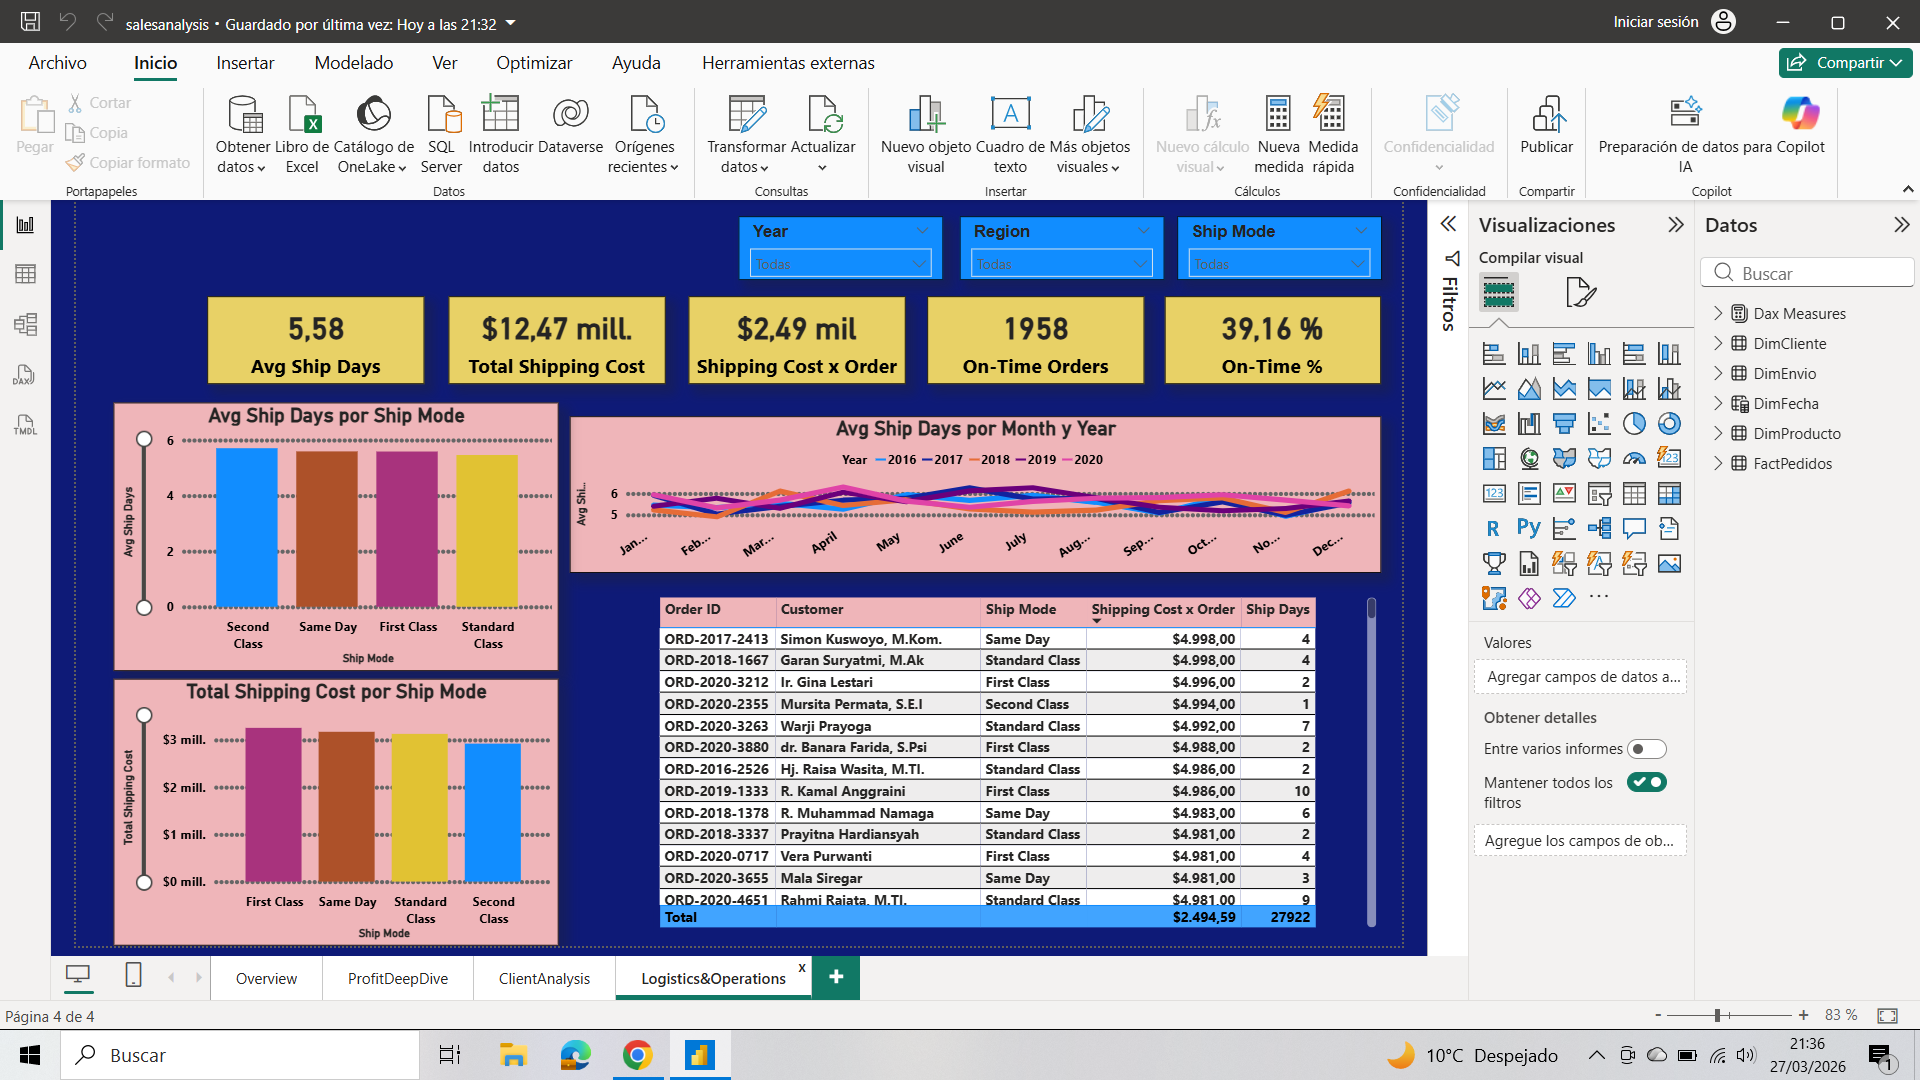

This screenshot's page, from the dashboard's own definition file:
{"tool":"powerbi","page":{"name":"Logistics&Operations","canvas":[1280,720],"ordinal":3},"visuals":[{"type":"slicer","fields":{"Values":["DimFecha.Year"]},"box":[639.5,15.1,197.6,61.7],"z":0},{"type":"slicer","fields":{"Values":["DimCliente.Region"]},"box":[853.5,15.1,197.6,61.7],"z":1000},{"type":"slicer","fields":{"Values":["DimEnvio.Ship Mode"]},"box":[1063.5,15.1,197.6,61.7],"z":2000},{"type":"card","fields":{"Values":["Dax Measures.Avg Ship Days"]},"box":[126.2,93.3,209.9,85.1],"z":3000},{"type":"card","fields":{"Values":["Dax Measures.Total Shipping Cost"]},"box":[359.5,93.3,209.9,85.1],"z":4000},{"type":"card","fields":{"Values":["Dax Measures.Shipping Cost per Order"]},"box":[591.4,93.3,209.9,85.1],"z":5000},{"type":"card","fields":{"Values":["Dax Measures.On-Time Orders"]},"box":[822,93.3,209.9,85.1],"z":6000},{"type":"card","fields":{"Values":["Dax Measures.On-Time %"]},"box":[1051.1,93.3,208.6,85.1],"z":7000},{"type":"lineChart","fields":{"Category":["DimFecha.MonthName"],"Y":["Dax Measures.Avg Ship Days"],"Series":["DimFecha.Year"]},"box":[476.5,208.7,783,150.8],"z":8000},{"type":"columnChart","fields":{"Category":["DimEnvio.Ship Mode"],"Y":["Dax Measures.Avg Ship Days"]},"box":[35.7,194.9,429.5,259.3],"z":9000},{"type":"columnChart","fields":{"Category":["DimEnvio.Ship Mode"],"Y":["Dax Measures.Total Shipping Cost"]},"box":[35.7,462.4,429.5,258],"z":10000},{"type":"tableEx","fields":{"Values":["FactPedidos.Order ID","DimCliente.Customer Name","DimEnvio.Ship Mode","Dax Measures.Shipping Cost per Order","Sum(FactPedidos.Ship Days)"]},"box":[557.1,378.7,702.6,328],"z":11000}]}

Visuals, with their boxes on the page's 1280x720 design canvas (x1, y1, x2, y2). These are canvas units, not pixel positions in the 1920x1080 screenshot, which may show the page scaled, cropped or inside an application window:
slicer - DimFecha.Year: 640/15/837/77
slicer - DimCliente.Region: 854/15/1051/77
slicer - DimEnvio.Ship Mode: 1064/15/1261/77
card - Dax Measures.Avg Ship Days: 126/93/336/178
card - Dax Measures.Total Shipping Cost: 360/93/569/178
card - Dax Measures.Shipping Cost per Order: 591/93/801/178
card - Dax Measures.On-Time Orders: 822/93/1032/178
card - Dax Measures.On-Time %: 1051/93/1260/178
lineChart - DimFecha.MonthName x Dax Measures.Avg Ship Days: 476/209/1260/360
columnChart - DimEnvio.Ship Mode x Dax Measures.Avg Ship Days: 36/195/465/454
columnChart - DimEnvio.Ship Mode x Dax Measures.Total Shipping Cost: 36/462/465/720
tableEx - FactPedidos.Order ID x DimCliente.Customer Name: 557/379/1260/707
